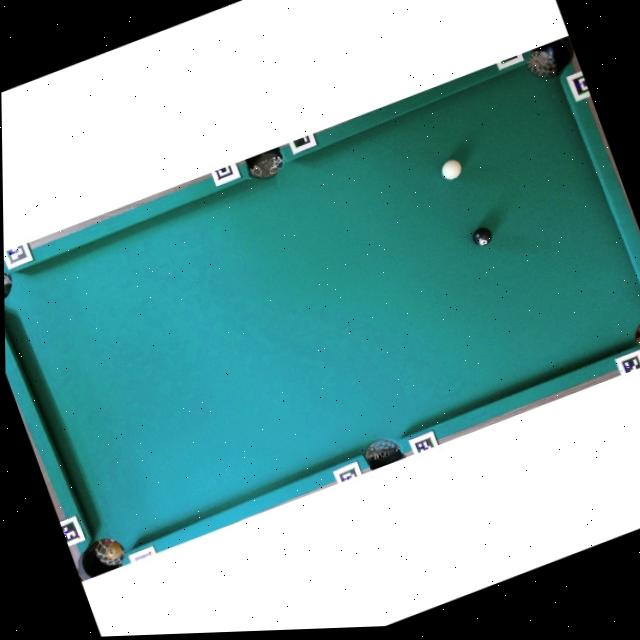cue ball: (438, 154, 466, 182)
other: (469, 222, 495, 248)
